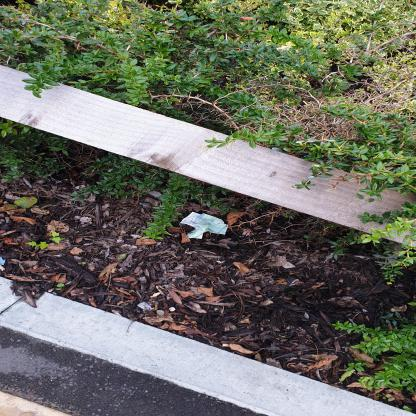kagit: (181, 213, 229, 240)
